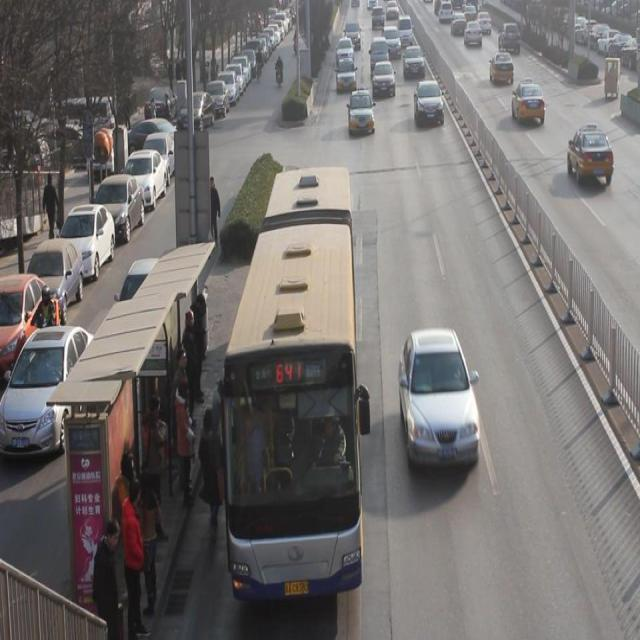car: (398, 327, 480, 468), (568, 123, 614, 188), (511, 78, 546, 127), (413, 79, 444, 126), (349, 86, 375, 136), (489, 48, 514, 86), (372, 61, 396, 98), (403, 44, 426, 79), (498, 22, 522, 54), (336, 57, 357, 92), (384, 25, 402, 54), (338, 38, 353, 59)
truck: (370, 36, 389, 73)
van: (228, 168, 362, 599)
